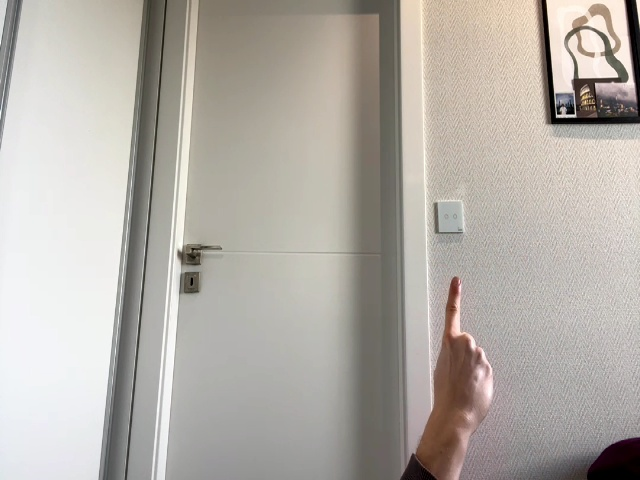D: (432, 276, 495, 438)
